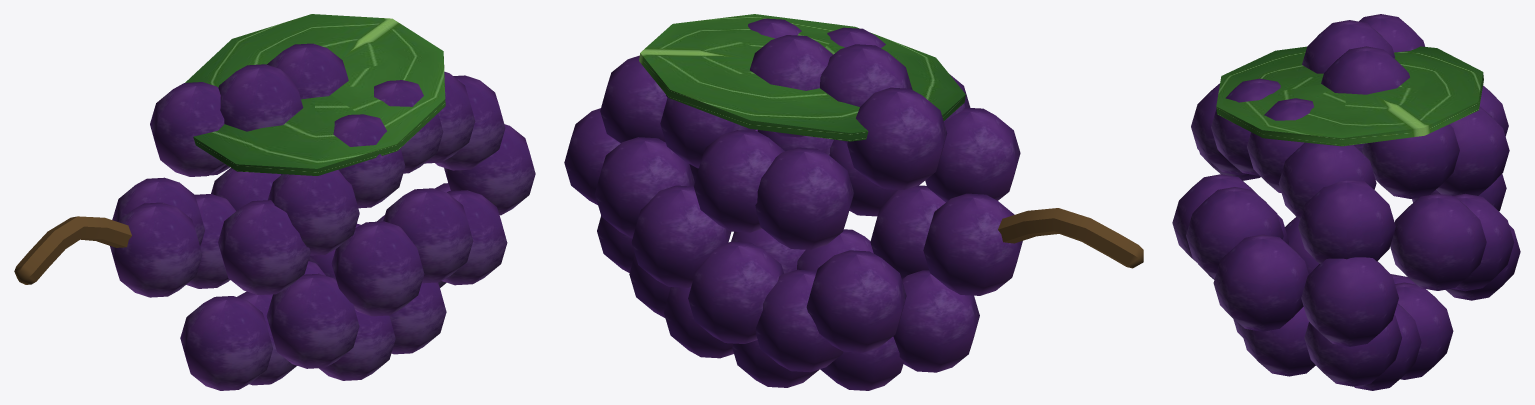
Rendered from fruit_grapes_purple.glb.
The picture shows the model from 3 angles, left to right: view 1: azimuth 30°, elevation 25°; view 2: azimuth 150°, elevation 25°; view 3: azimuth 270°, elevation 25°; orthographic projection. The views are drawn at different scales.
Parts seen in each view (by area): view 1: fruit_grapes_purple; view 2: fruit_grapes_purple; view 3: fruit_grapes_purple.
Part boxes in pixels (<box>): fruit_grapes_purple: <box>14,14,535,390</box>; fruit_grapes_purple: <box>564,14,1143,390</box>; fruit_grapes_purple: <box>1172,14,1520,390</box>.
Size of the model in its own units: 0.1317 by 0.0758 by 0.0747.
Materials: 3 (2 with a texture image).
